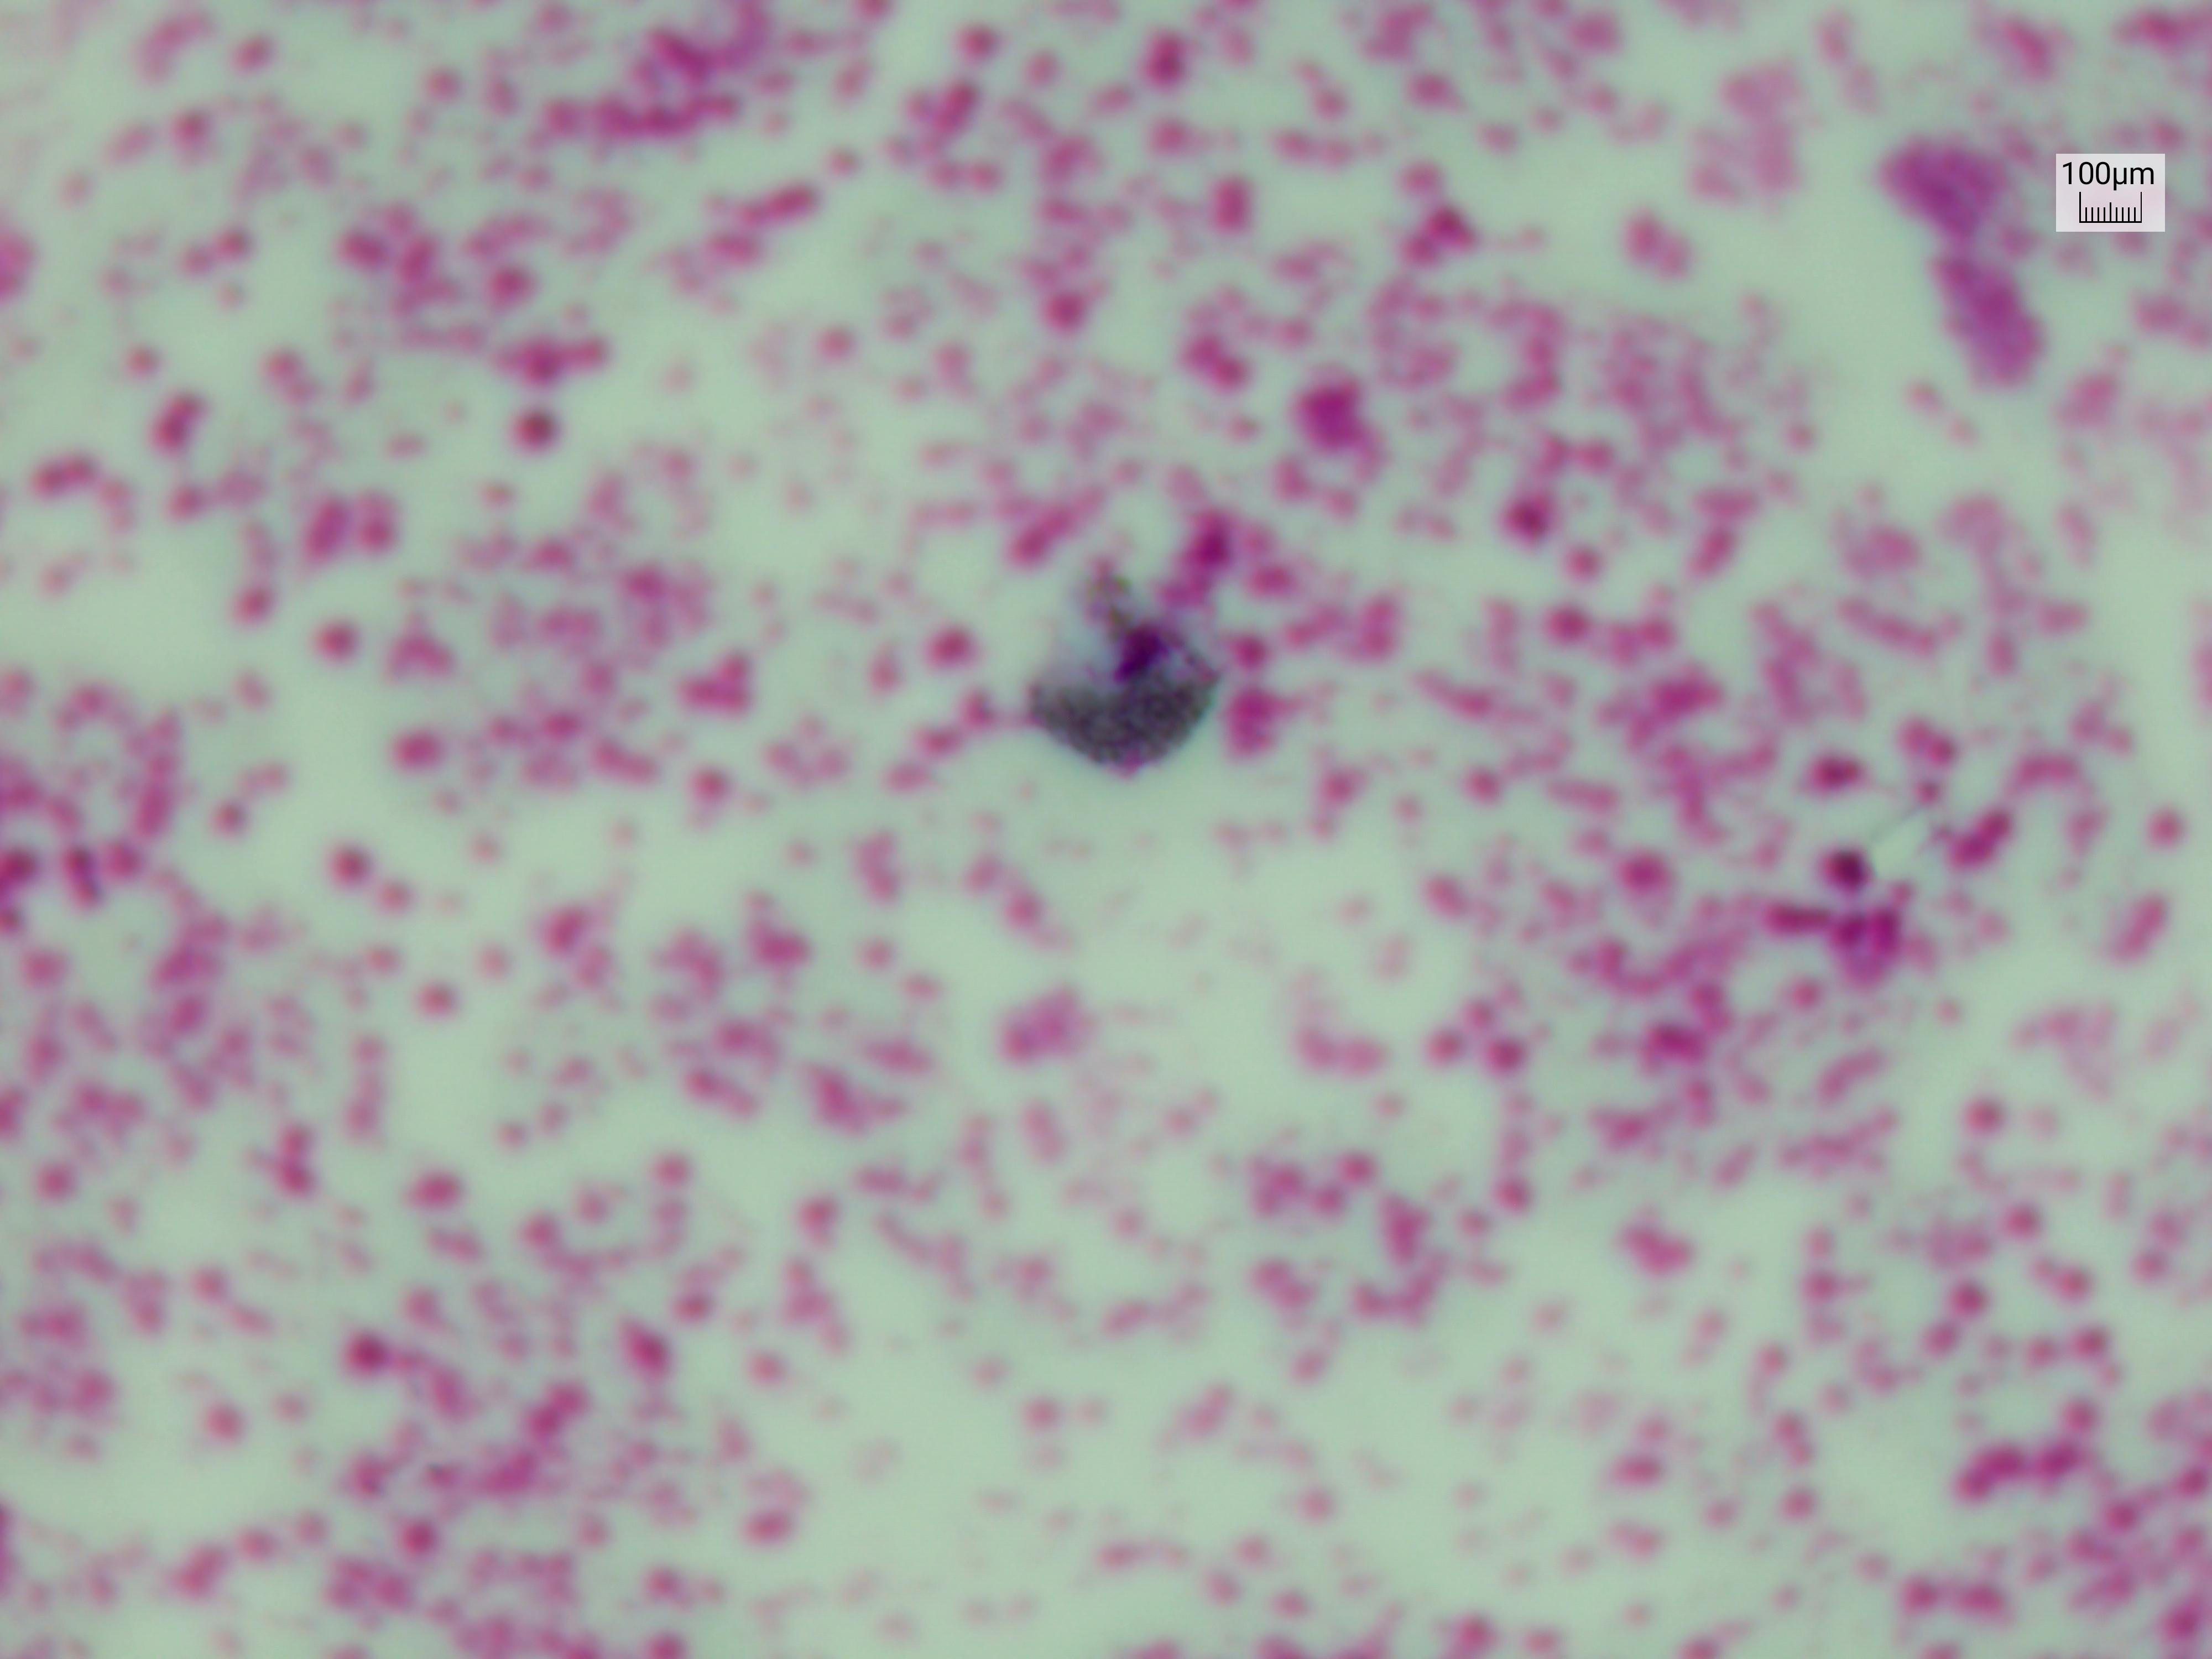p.vivax: (1026, 575, 1226, 789)
